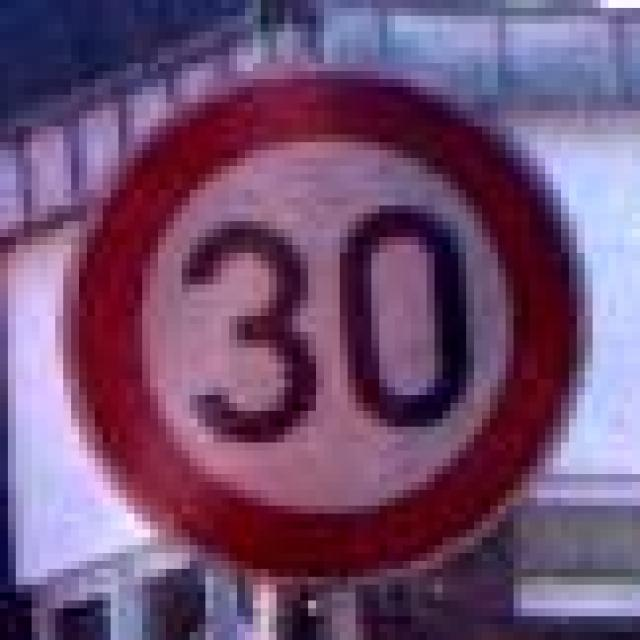speed limit 30: (61, 68, 587, 587)
